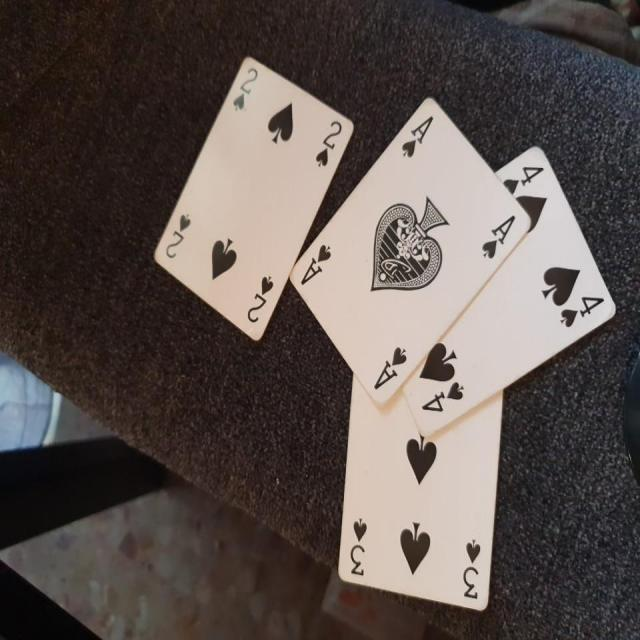2 Spades: (146, 54, 361, 356)
3 Spades: (328, 419, 517, 601)
4 Spades: (402, 148, 623, 442)
A Spades: (296, 82, 517, 405)
